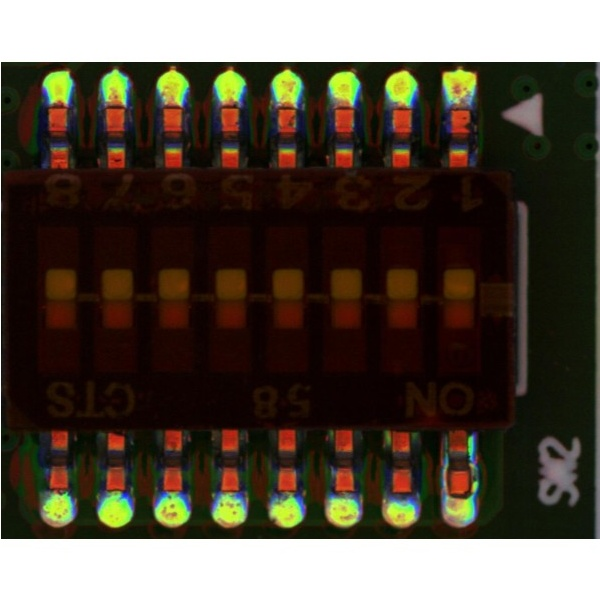Bad_podu: (468, 430, 478, 494), (439, 431, 448, 492), (333, 95, 353, 118), (106, 90, 124, 113), (277, 94, 295, 117), (164, 92, 182, 112), (220, 95, 237, 114), (47, 97, 67, 113)
